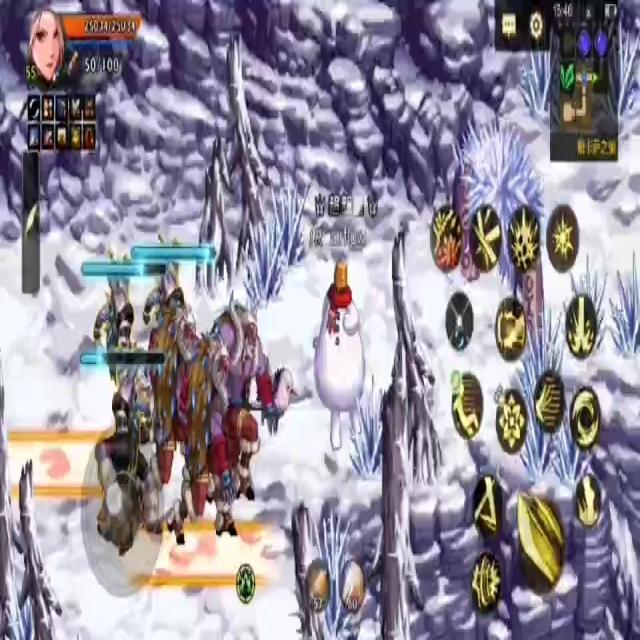player: (315, 258, 366, 454)
